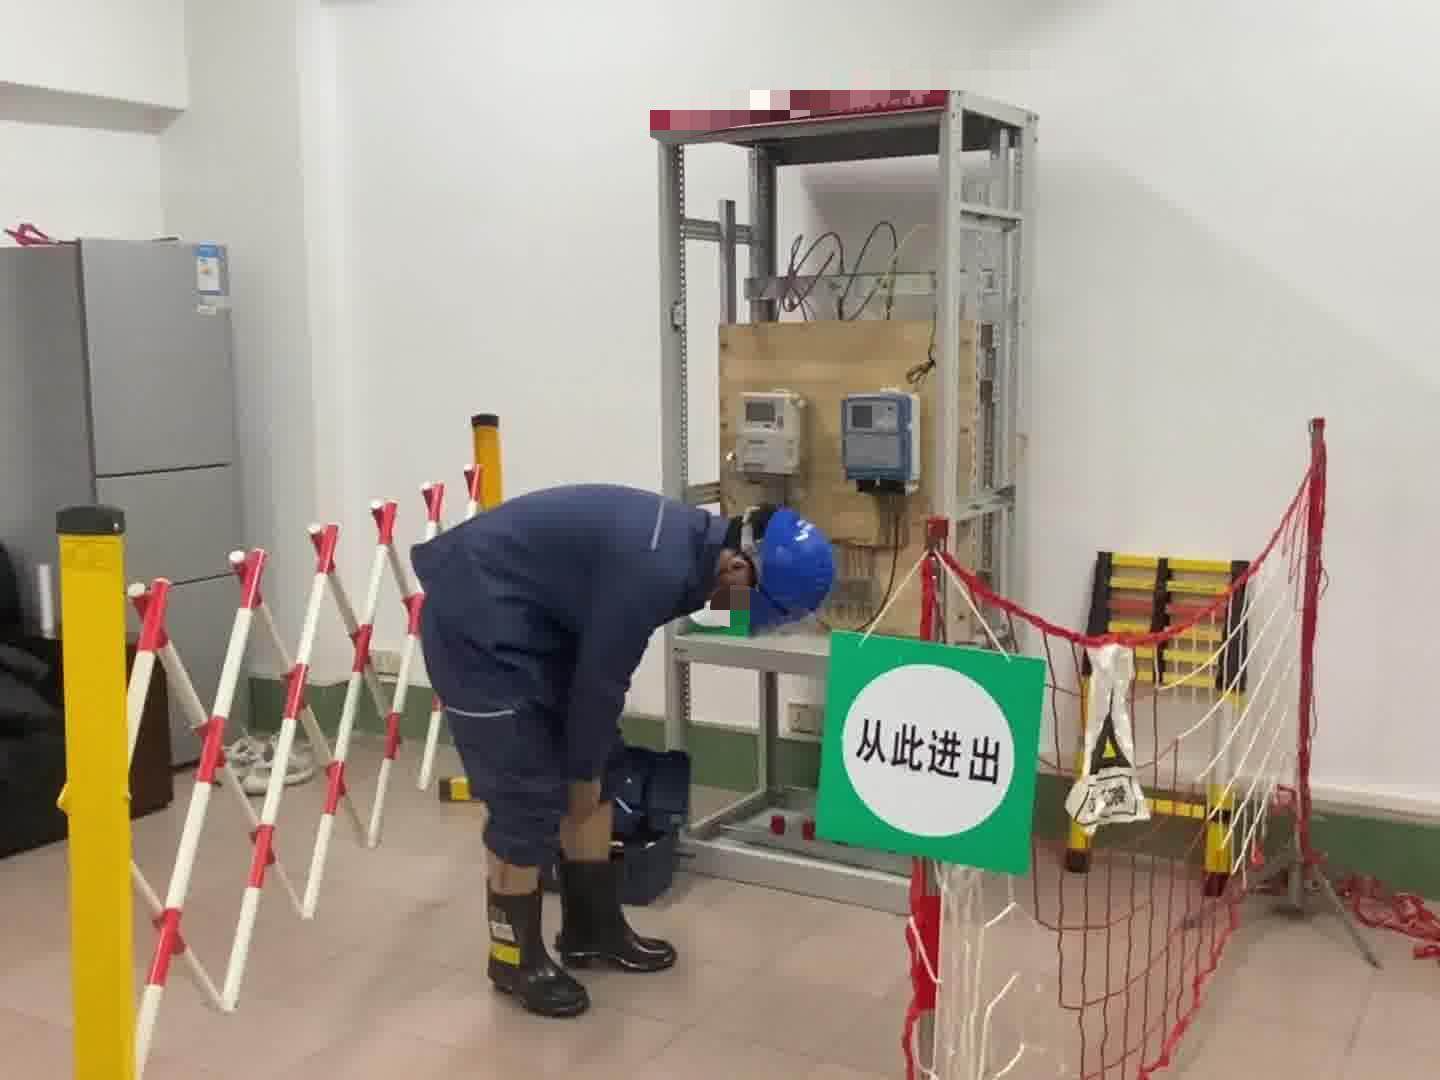halt: (709, 507, 842, 639)
inear: (714, 549, 763, 594)
